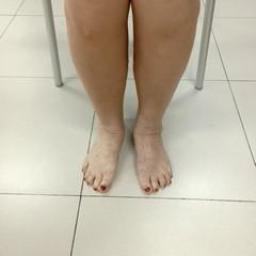Dorsal View -Both Feet-: (61, 88, 189, 212)
